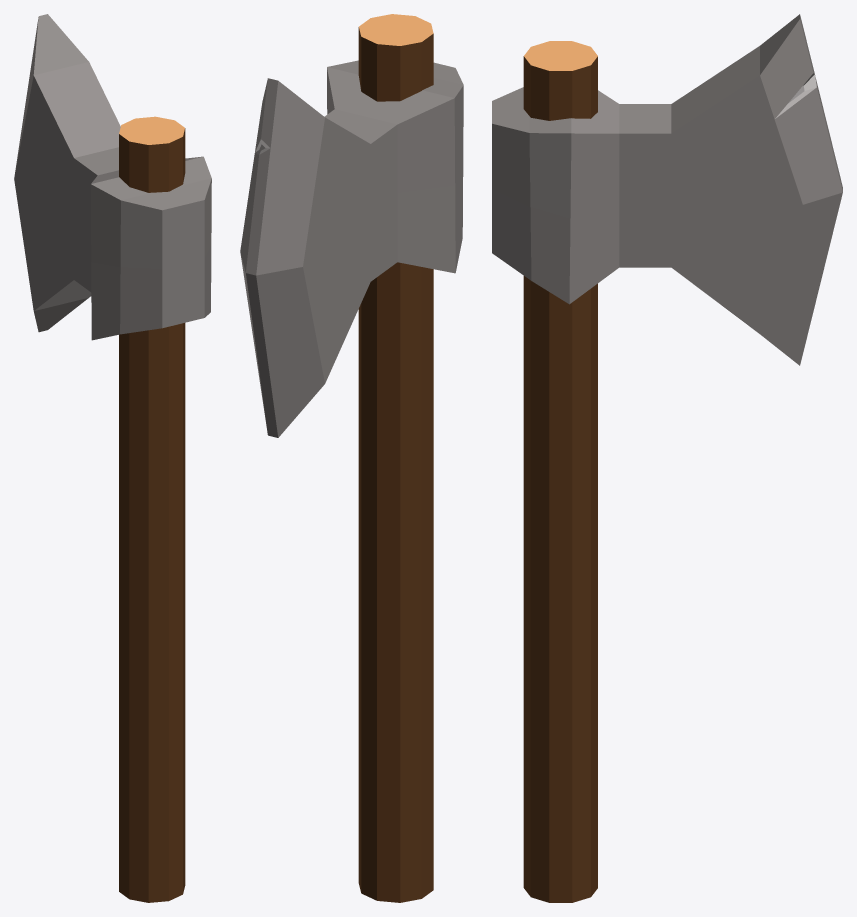
File: Axe.fbx
The picture shows the model from 3 angles, left to right: view 1: azimuth 30°, elevation 25°; view 2: azimuth 150°, elevation 25°; view 3: azimuth 270°, elevation 25°; orthographic projection. The views are drawn at different scales.
Visible parts, largest first — view 1: Cube.067, Cube.068; view 2: Cube.067, Cube.068; view 3: Cube.068, Cube.067.
Boxes of the visible parts, box(x1,y1,x2,y2) form: Cube.067: box(119, 116, 185, 902); Cube.068: box(14, 14, 211, 340); Cube.067: box(358, 14, 433, 902); Cube.068: box(240, 60, 463, 437); Cube.068: box(492, 14, 842, 365); Cube.067: box(523, 41, 597, 902).
Bounding box in the file's own units: 121 × 812 × 296.
